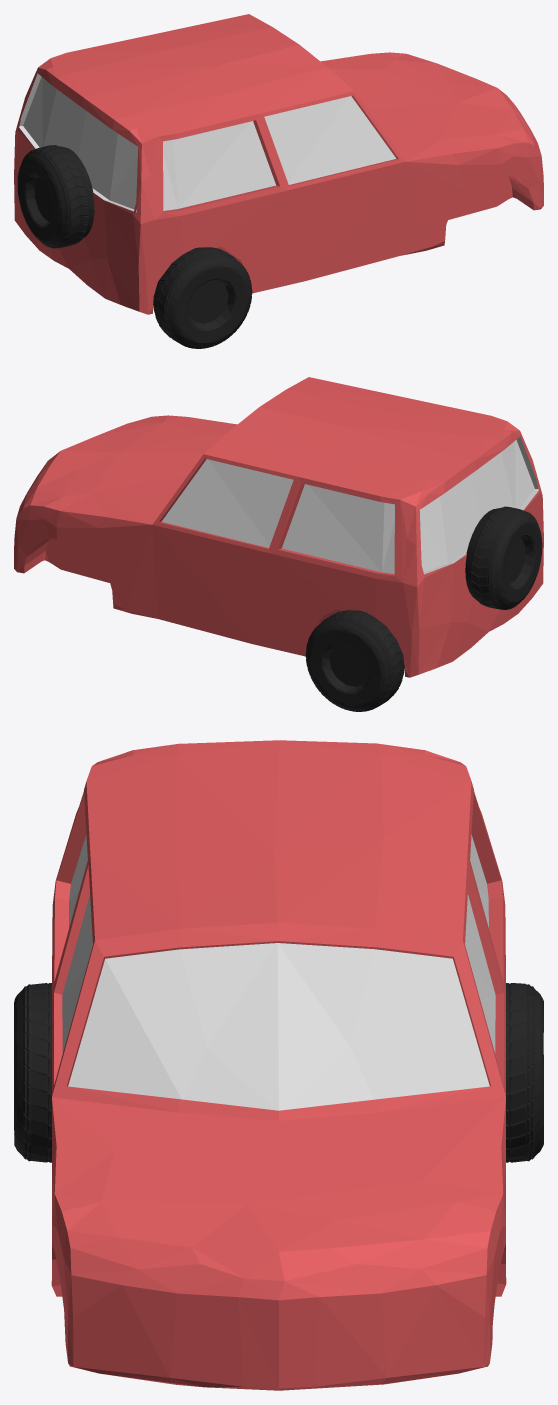
File: car.fbx
The picture shows the model from 3 angles, top to bottom: view 1: azimuth 30°, elevation 25°; view 2: azimuth 150°, elevation 25°; view 3: azimuth 270°, elevation 25°; orthographic projection. The views are drawn at different scales.
Parts seen in each view (by area): view 1: Cube, Cube.002, Cube.003; view 2: Cube, Cube.002, Cube.003; view 3: Cube, Cube.002.
Part boxes in pixels (<box>): Cube: <box>14,14,543,314</box>; Cube.002: <box>153,247,252,348</box>; Cube.003: <box>17,145,94,248</box>; Cube: <box>14,377,543,677</box>; Cube.002: <box>305,610,404,711</box>; Cube.003: <box>465,506,542,609</box>; Cube: <box>51,740,506,1390</box>; Cube.002: <box>14,983,543,1162</box>.
Size of the model in its own units: 860 by 366 by 474.
